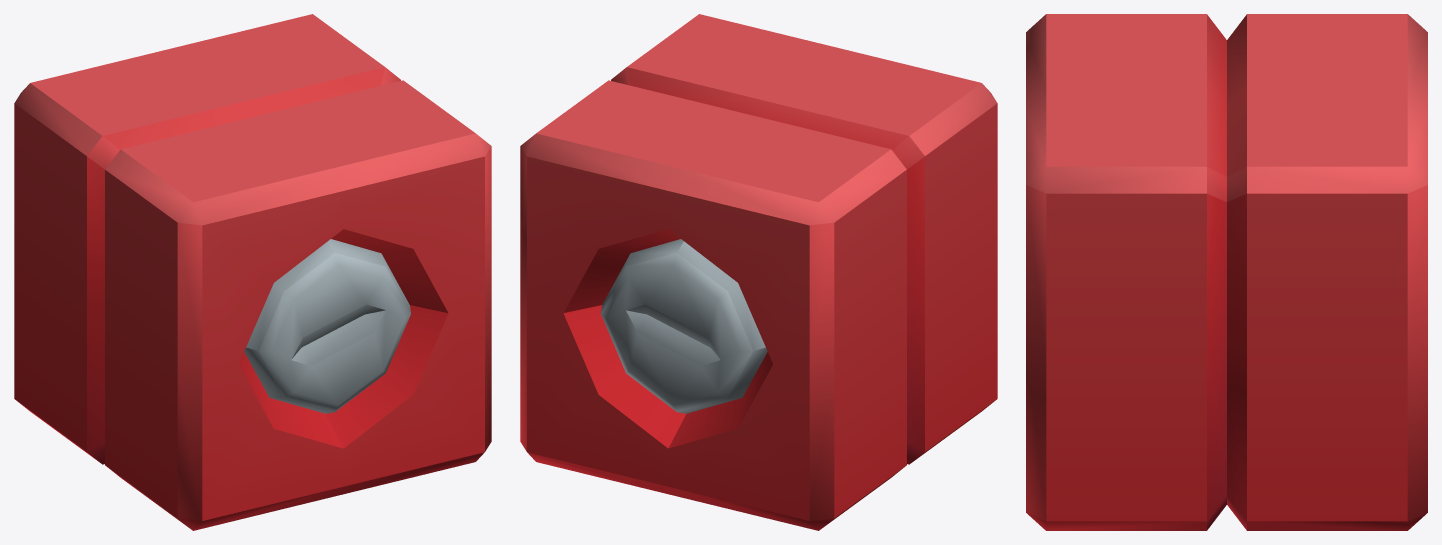
Rendered from platform_decorative_1x1x1_red.glb.
The picture shows the model from 3 angles, left to right: view 1: azimuth 30°, elevation 25°; view 2: azimuth 150°, elevation 25°; view 3: azimuth 270°, elevation 25°; orthographic projection. The views are drawn at different scales.
Parts seen in each view (by area): view 1: platform_decorative_1x1x1_red; view 2: platform_decorative_1x1x1_red; view 3: platform_decorative_1x1x1_red.
Boxes of the visible parts, <box> form: platform_decorative_1x1x1_red: <box>14,14,491,530</box>; platform_decorative_1x1x1_red: <box>520,14,997,530</box>; platform_decorative_1x1x1_red: <box>1026,14,1427,530</box>.
Size of the model in its own units: 1 by 1 by 1.
1 material, 1 textured.
